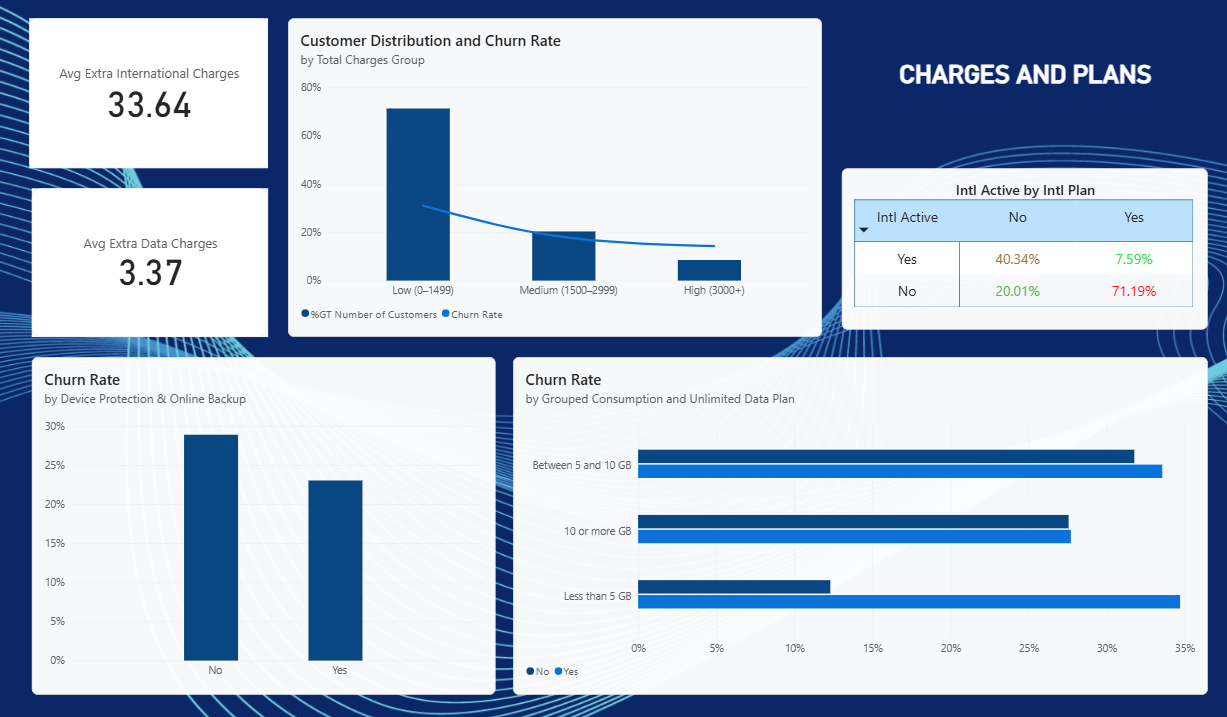

This screenshot's page, from the dashboard's own definition file:
{"tool":"powerbi","page":{"name":"Charges and Plans","canvas":[1640,960],"ordinal":3},"visuals":[{"type":"clusteredBarChart","fields":{"Y":["_Calculations.Churn Rate"],"Category":["Databel.Grouped Consumption"],"Series":["Databel.Unlimited Data Plan"]},"box":[686.7,480,926.7,450],"z":0},{"type":"cardVisual","fields":{"Data":["_Calculations.Avg Extra International Charges"]},"box":[41.7,28.3,318.3,200],"z":1000},{"type":"cardVisual","fields":{"Data":["_Calculations.Avg Extra Data Charges"]},"box":[45,255,315,198.3],"z":2000},{"type":"clusteredColumnChart","fields":{"Y":["_Calculations.Churn Rate"],"Category":["Databel.Device Protection & Online Backup"]},"box":[45,480,618.3,450],"z":3000},{"type":"lineClusteredColumnComboChart","title":"Customer Distribution and Churn Rate","fields":{"Category":["Databel.Total Charges Group"],"Y":["_Calculations.Number of Customers"],"Y2":["_Calculations.Churn Rate"]},"box":[386.7,28.3,711.7,425],"z":4000},{"type":"textbox","box":[1180,83.3,380,118.3],"z":5000},{"type":"pivotTable","title":"Intl Active by Intl Plan","fields":{"Rows":["Databel.Intl Active"],"Columns":["Databel.Intl Plan"],"Values":["_Calculations.Churn Rate"]},"box":[1125,228.3,488.3,215],"z":6000}]}

Visuals, with their boxes in screenshot pixels (x1, y1, x2, y2), scaled from the page's 1640x960 canvas onto the 1227x717 screenshot:
clusteredBarChart - _Calculations.Churn Rate x Databel.Grouped Consumption: pyautogui.locateOnScreen(514, 358, 1207, 695)
cardVisual - _Calculations.Avg Extra International Charges: pyautogui.locateOnScreen(31, 21, 269, 171)
cardVisual - _Calculations.Avg Extra Data Charges: pyautogui.locateOnScreen(34, 190, 269, 339)
clusteredColumnChart - _Calculations.Churn Rate x Databel.Device Protection & Online Backup: pyautogui.locateOnScreen(34, 358, 496, 695)
"Customer Distribution and Churn Rate" lineClusteredColumnComboChart: pyautogui.locateOnScreen(289, 21, 822, 339)
textbox: pyautogui.locateOnScreen(883, 62, 1167, 151)
"Intl Active by Intl Plan" pivotTable: pyautogui.locateOnScreen(842, 171, 1207, 331)
